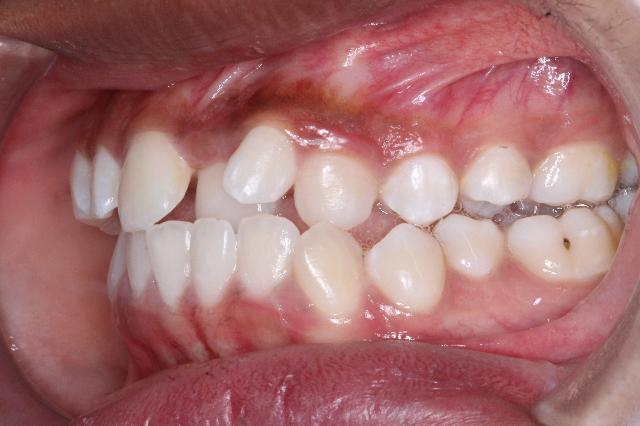canine class II 1/2: (292, 147, 460, 322)
molar class I: (506, 137, 626, 287)
